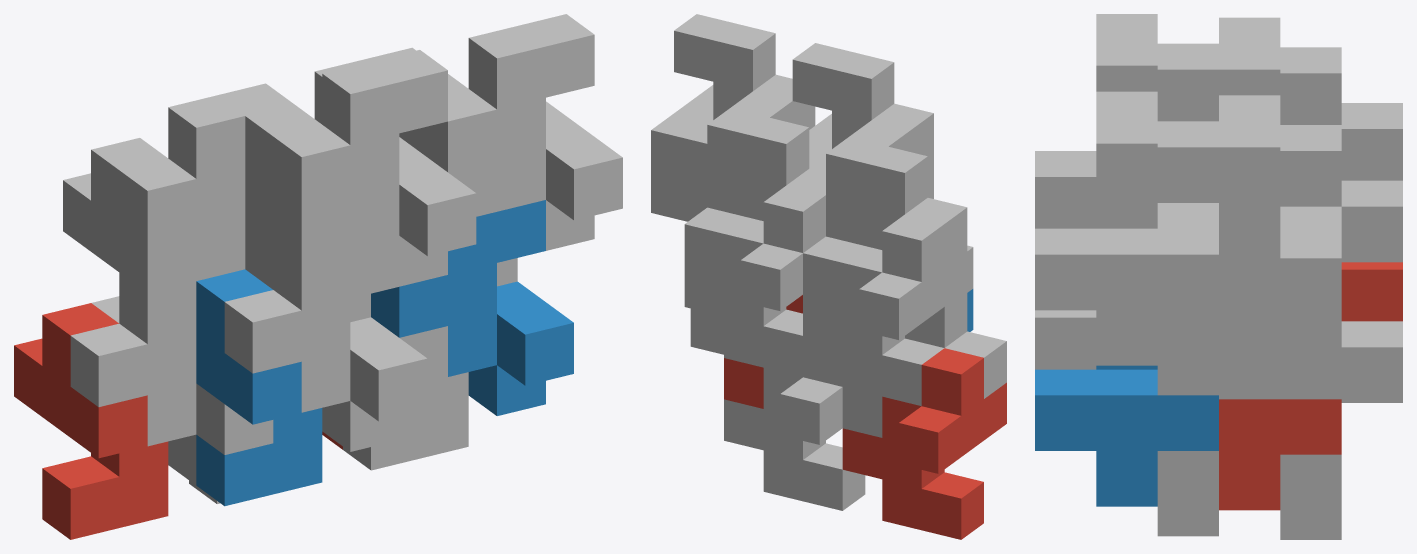
The model's file is tiling.obj.
3 views of the same model, side by side, from view 1: azimuth 30°, elevation 25°; view 2: azimuth 150°, elevation 25°; view 3: azimuth 270°, elevation 25° (orthographic). The views are drawn at different scales.
Visible parts, largest first — view 1: copy_2_domain_4, copy_2_domain_8, copy_2_domain_2, copy_2_domain_6, copy_1_domain_1, copy_2_domain_3, copy_2_domain_1, copy_1_domain_2, copy_1_domain_3, copy_1_domain_4, copy_1_domain_6, copy_1_domain_8 (+1 smaller); view 2: copy_1_domain_1, copy_1_domain_3, copy_1_domain_7, copy_1_domain_5, copy_2_domain_3, copy_2_domain_8, copy_2_domain_7, copy_2_domain_4, copy_1_domain_8, copy_2_domain_1, copy_1_domain_4, copy_2_domain_5 (+1 smaller); view 3: copy_2_domain_8, copy_2_domain_7, copy_2_domain_6, copy_1_domain_7, copy_1_domain_8, copy_1_domain_5, copy_2_domain_5, copy_2_domain_4, copy_1_domain_3, copy_1_domain_6, copy_1_domain_4, copy_2_domain_3 (+2 smaller).
Boxes of the visible parts, bbox=[...] form: copy_2_domain_4: bbox=[273, 50, 476, 286]; copy_2_domain_8: bbox=[420, 14, 622, 250]; copy_2_domain_2: bbox=[224, 236, 427, 451]; copy_2_domain_6: bbox=[371, 200, 573, 415]; copy_1_domain_1: bbox=[14, 303, 168, 539]; copy_2_domain_3: bbox=[119, 83, 293, 289]; copy_2_domain_1: bbox=[70, 273, 273, 485]; copy_1_domain_2: bbox=[196, 269, 322, 506]; copy_1_domain_3: bbox=[63, 138, 196, 322]; copy_1_domain_4: bbox=[245, 104, 370, 322]; copy_1_domain_6: bbox=[343, 326, 468, 470]; copy_1_domain_8: bbox=[399, 74, 517, 286]; copy_1_domain_1: bbox=[842, 348, 1006, 539]; copy_1_domain_3: bbox=[803, 214, 967, 405]; copy_1_domain_7: bbox=[684, 185, 825, 376]; copy_1_domain_5: bbox=[724, 336, 865, 510]; copy_2_domain_3: bbox=[803, 137, 967, 303]; copy_2_domain_8: bbox=[651, 14, 815, 180]; copy_2_domain_7: bbox=[684, 108, 825, 274]; copy_2_domain_4: bbox=[792, 43, 933, 168]; copy_1_domain_8: bbox=[651, 91, 792, 221]; copy_2_domain_1: bbox=[842, 290, 1006, 437]; copy_1_domain_4: bbox=[809, 120, 933, 245]; copy_2_domain_5: bbox=[724, 295, 802, 408]; copy_2_domain_8: bbox=[1035, 91, 1218, 365]; copy_2_domain_7: bbox=[1219, 95, 1341, 369]; copy_2_domain_6: bbox=[1035, 365, 1218, 506]; copy_1_domain_7: bbox=[1280, 125, 1402, 399]; copy_1_domain_8: bbox=[1157, 121, 1280, 395]; copy_1_domain_5: bbox=[1280, 321, 1402, 539]; copy_2_domain_5: bbox=[1219, 399, 1341, 510]; copy_2_domain_4: bbox=[1035, 14, 1157, 228]; copy_1_domain_3: bbox=[1280, 47, 1402, 180]; copy_1_domain_6: bbox=[1157, 369, 1280, 536]; copy_1_domain_4: bbox=[1157, 43, 1218, 121]; copy_2_domain_3: bbox=[1219, 17, 1280, 95].
Bounding box in the file's own units: 9 × 9 × 6.
